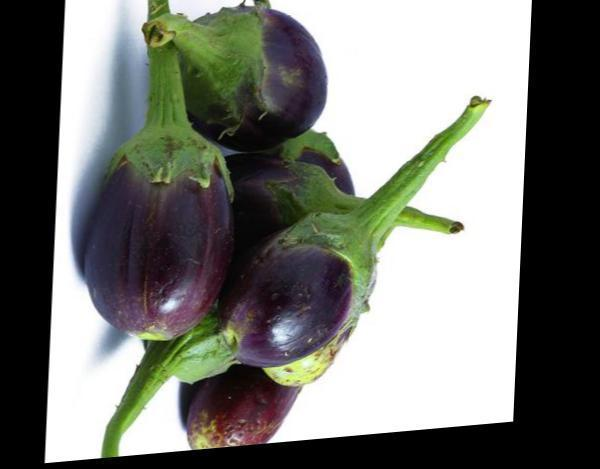eggplant: (73, 0, 464, 462), (68, 0, 249, 400), (235, 142, 458, 430), (147, 0, 337, 165)
